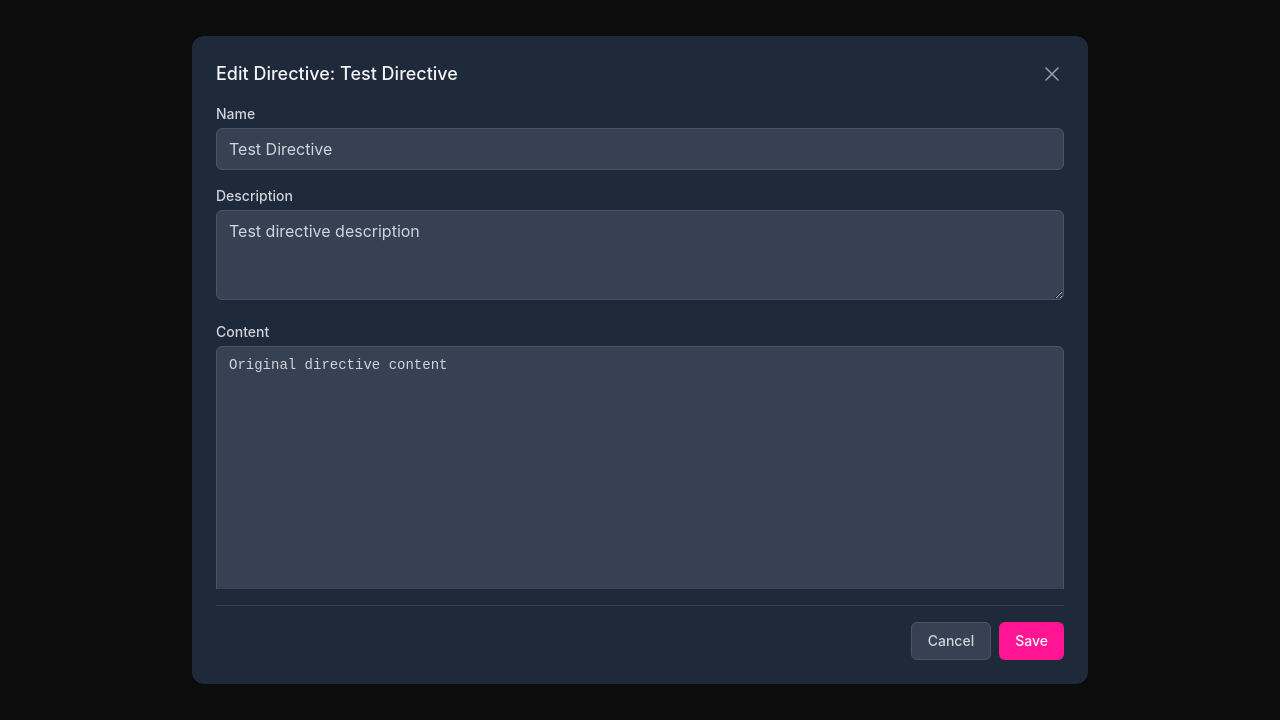
KnowledgeUnitEditModal › Error handling › should dismiss error message when X button on error banner is clicked
The width and height of the screenshot is (1280, 720).
Click the button "Save". click: x=1032, y=641
box: [999,622,1064,660]
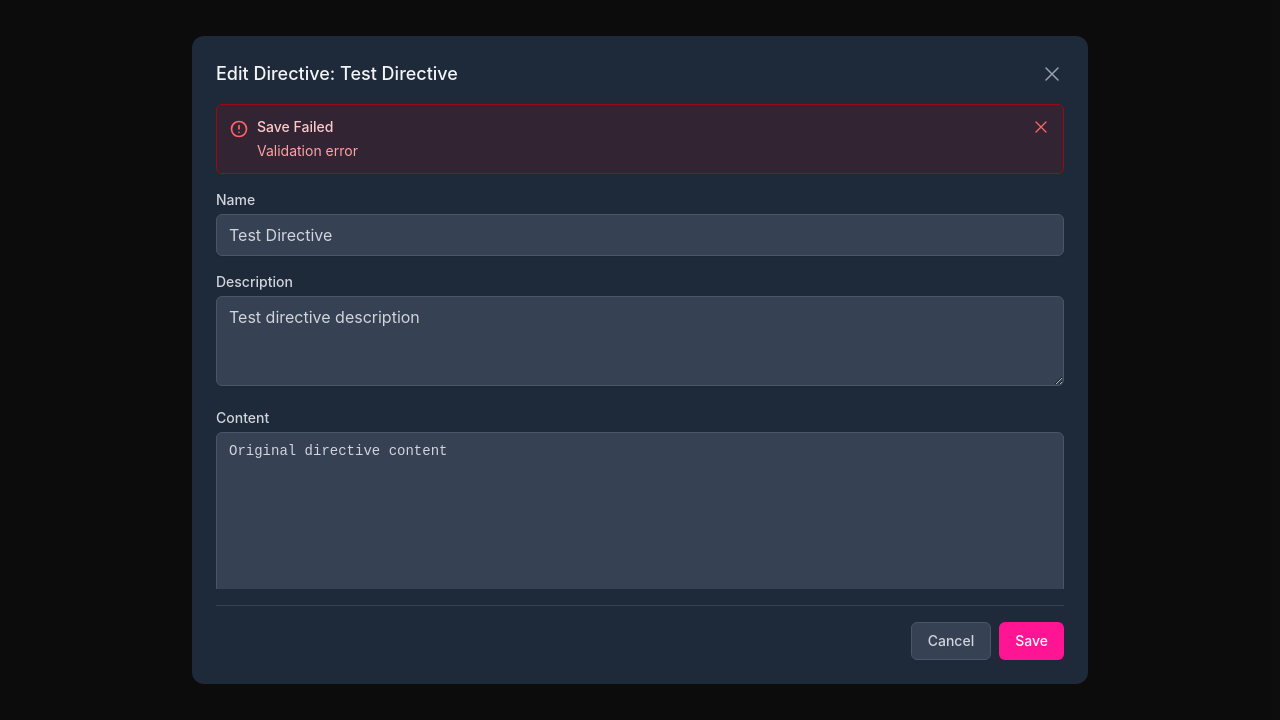
Now the heading "Save Failed" is shown, box [257,118,333,135]
Note: Click dismiss button on the error banner
Click the button with test id "dismiss-error". click: x=1041, y=127
box: [1031,117,1051,137]
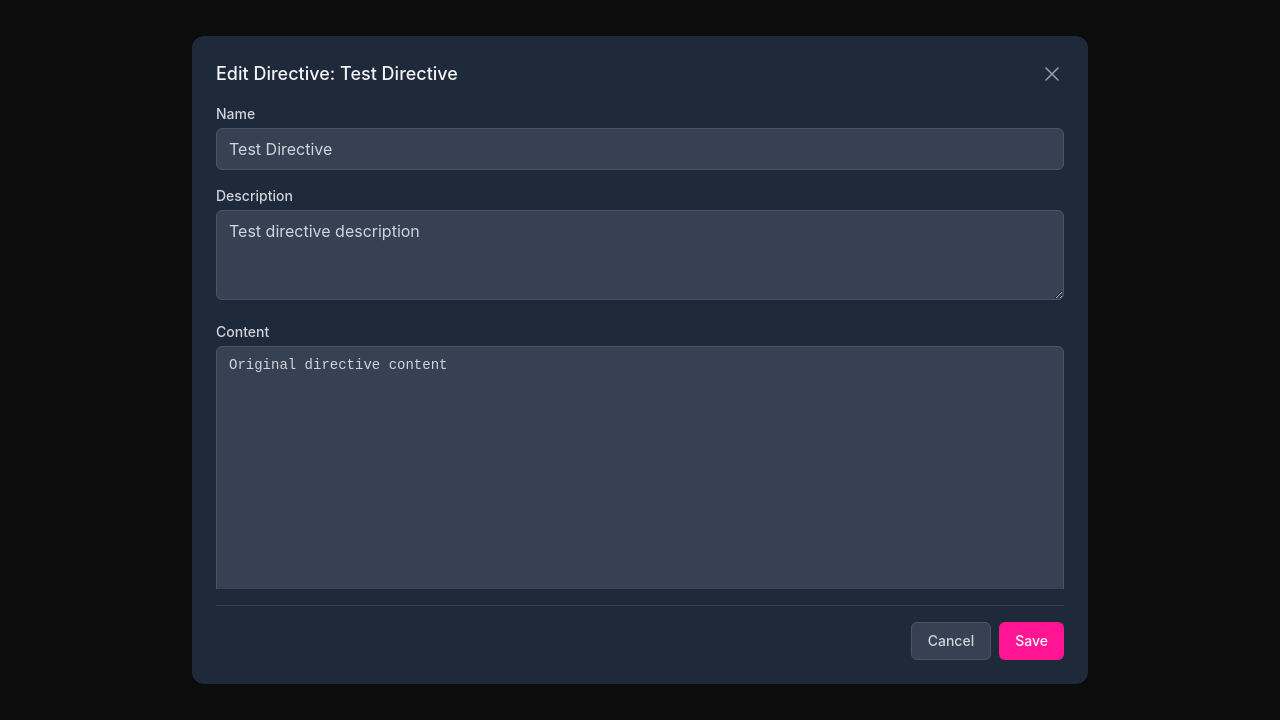
Now the heading "Save Failed" is gone
